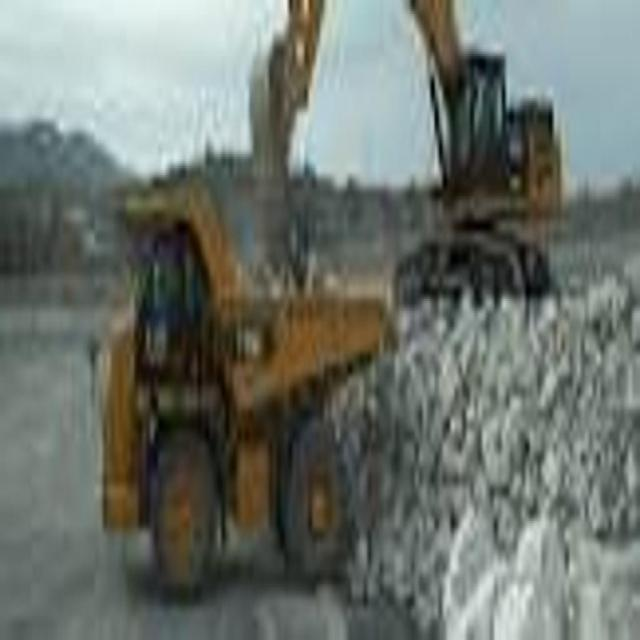dump_truck: (88, 148, 390, 558)
